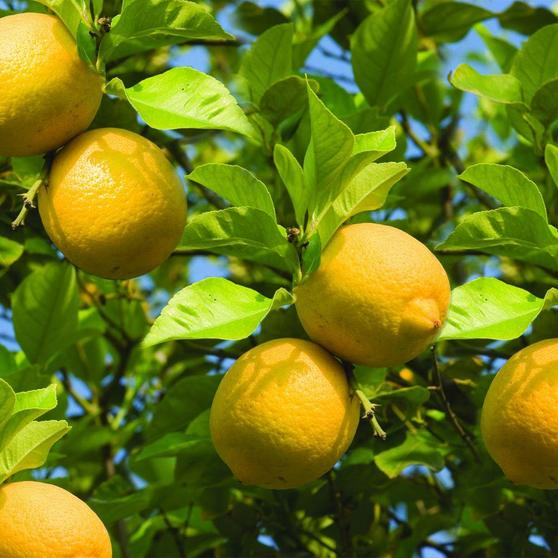lemon: (40, 131, 189, 279)
